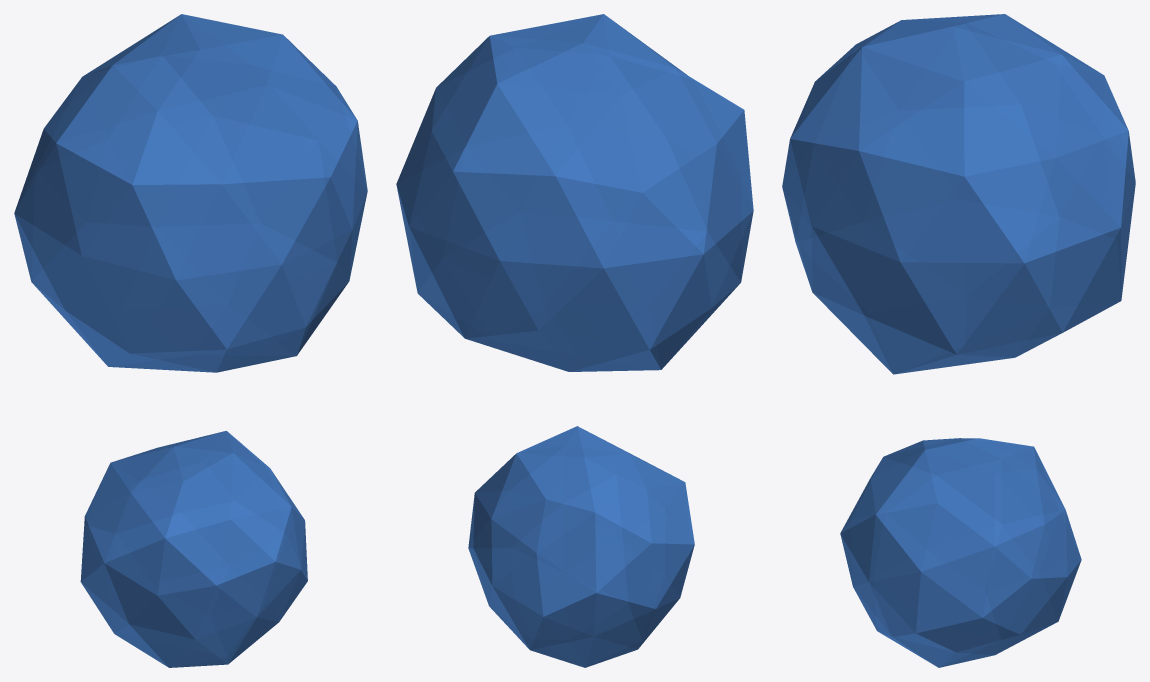
Rendered from sutopu.fbx.
The picture shows the model from 3 angles, left to right: view 1: azimuth 30°, elevation 25°; view 2: azimuth 150°, elevation 25°; view 3: azimuth 270°, elevation 25°; orthographic projection. The views are drawn at different scales.
Parts seen in each view (by area): view 1: Icosphere; view 2: Icosphere; view 3: Icosphere.
Part boxes in pixels (left/top/right/bottom): Icosphere: left=14, top=14, right=367, bottom=667; Icosphere: left=396, top=14, right=753, bottom=667; Icosphere: left=782, top=14, right=1135, bottom=667.
Size of the model in its own units: 252 by 477 by 242.
